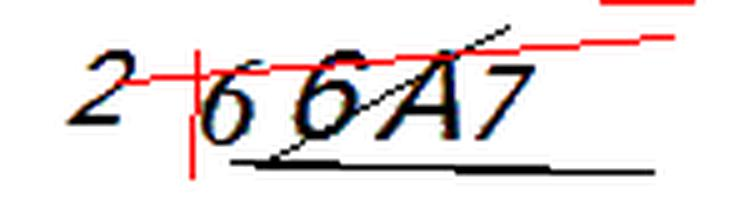2: (59, 44, 146, 134)
6: (288, 41, 375, 147), (196, 51, 271, 152)
7: (468, 57, 549, 146)
A: (370, 43, 470, 150)
